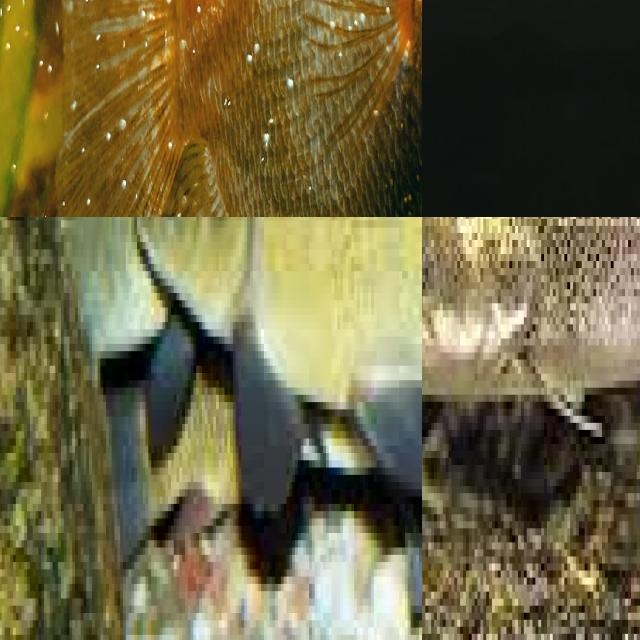fish: (0, 217, 422, 640), (0, 0, 422, 217), (422, 217, 640, 472)
